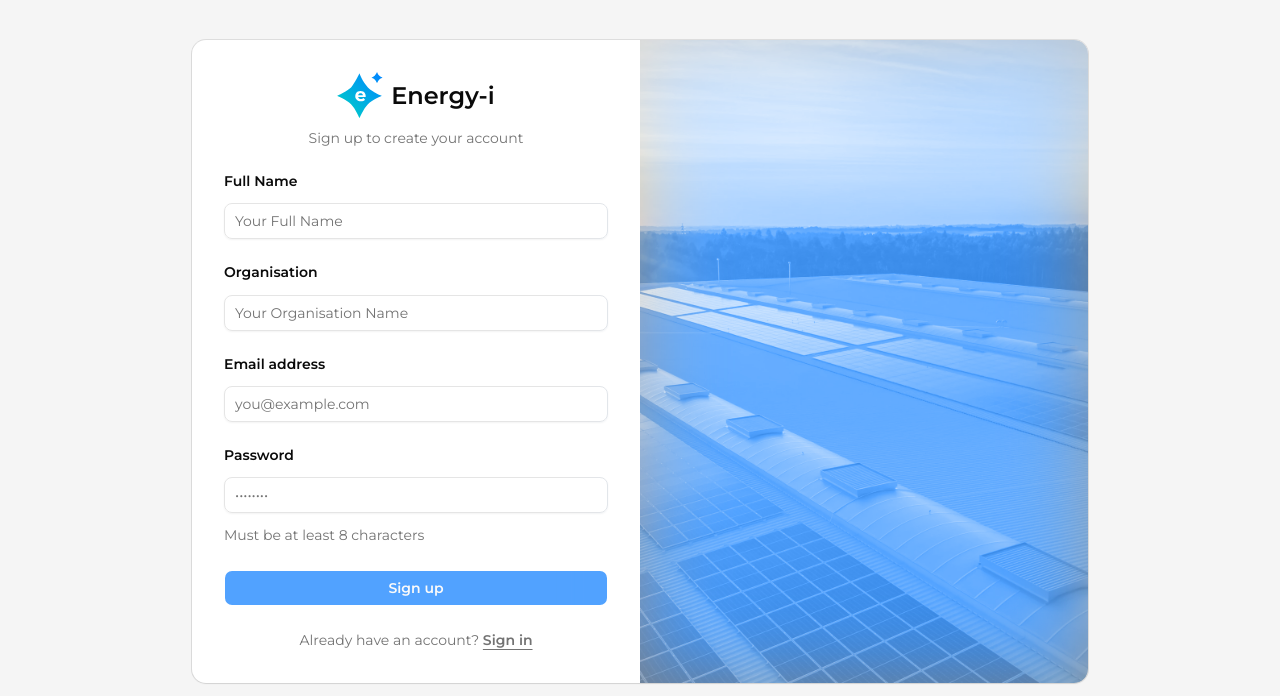
Test: Auth - Sign Up › shows an error for a duplicate email
Type "Admin User" into the field with id "name" at x=416, y=221, box top-left (224, 203), bottom-right (608, 239)
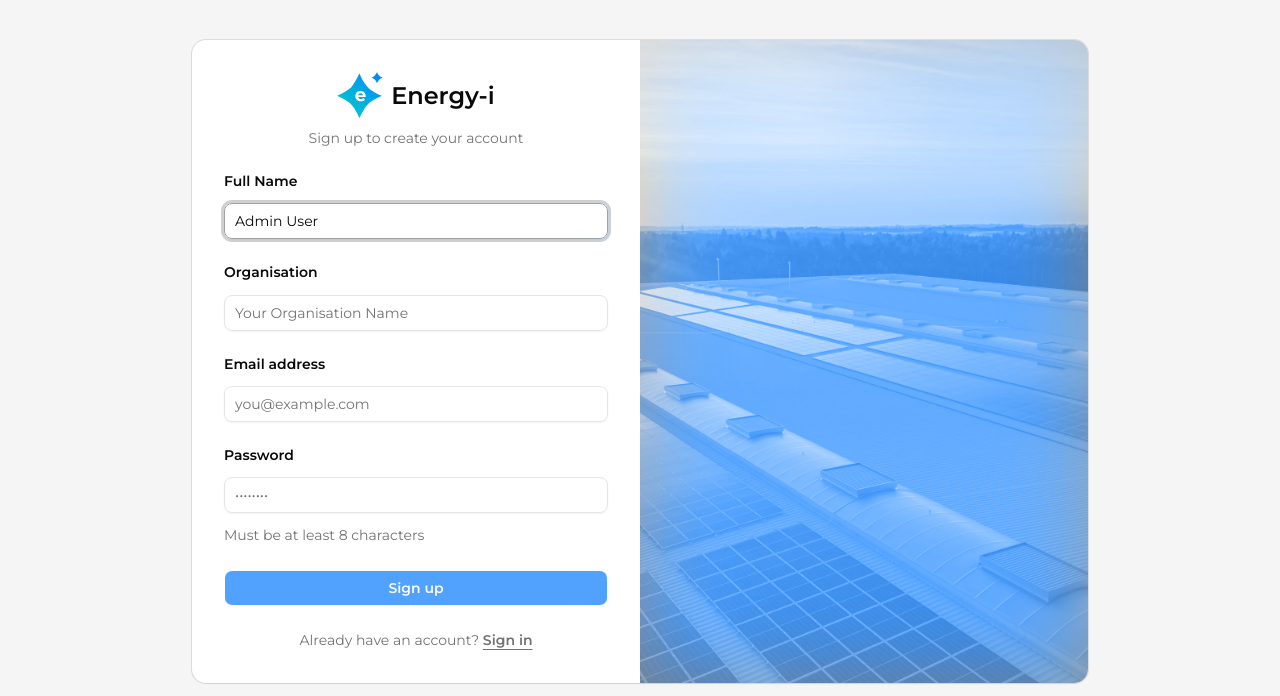
Type "Duplicate Org" into the field with id "organisation" at x=416, y=313, box top-left (224, 295), bottom-right (608, 331)
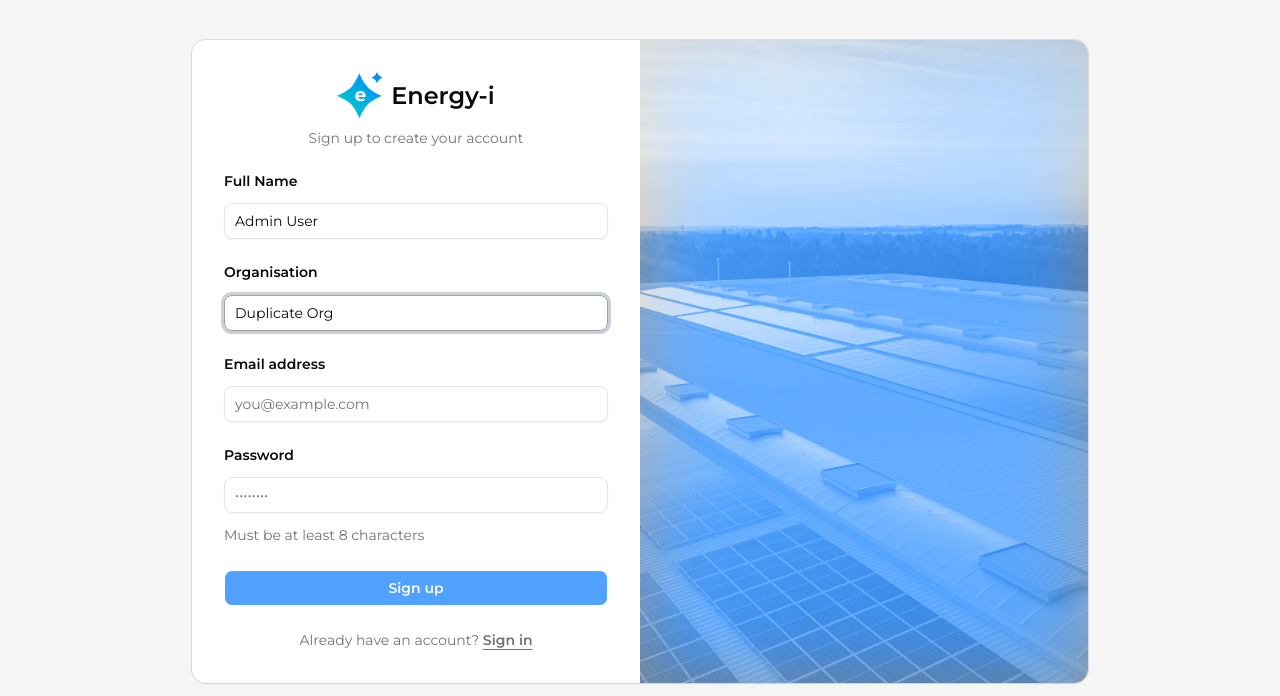
Type "admin@energycorp.com" into the field with id "email" at x=416, y=404, box top-left (224, 386), bottom-right (608, 422)
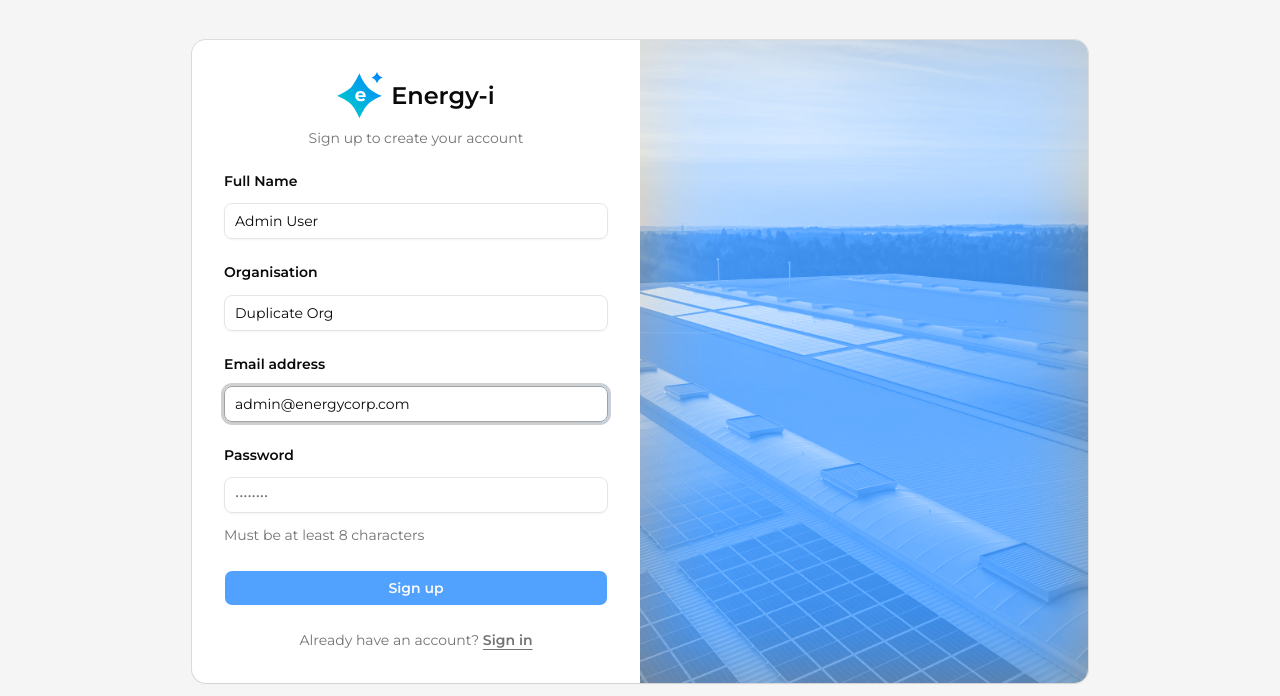
Type "securepassword" into the password field labelled "Password" at x=416, y=495, box top-left (224, 477), bottom-right (608, 513)
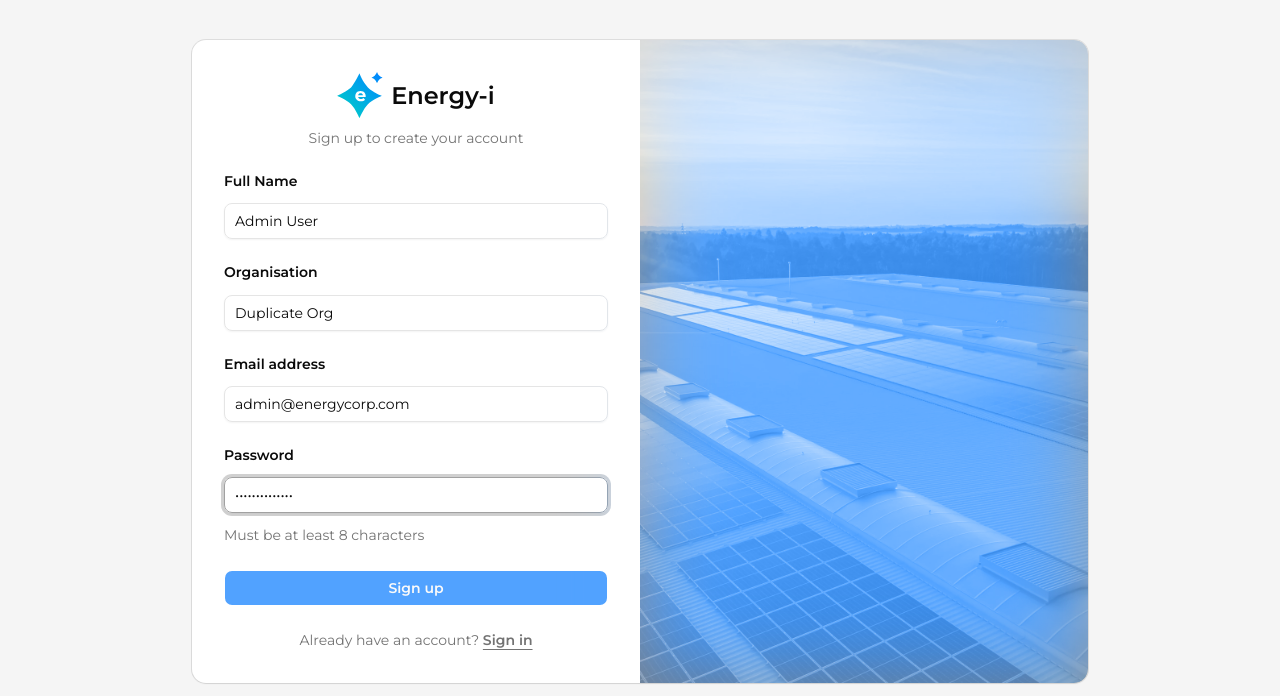
Click the submit button at x=416, y=588, box top-left (224, 570), bottom-right (608, 606)
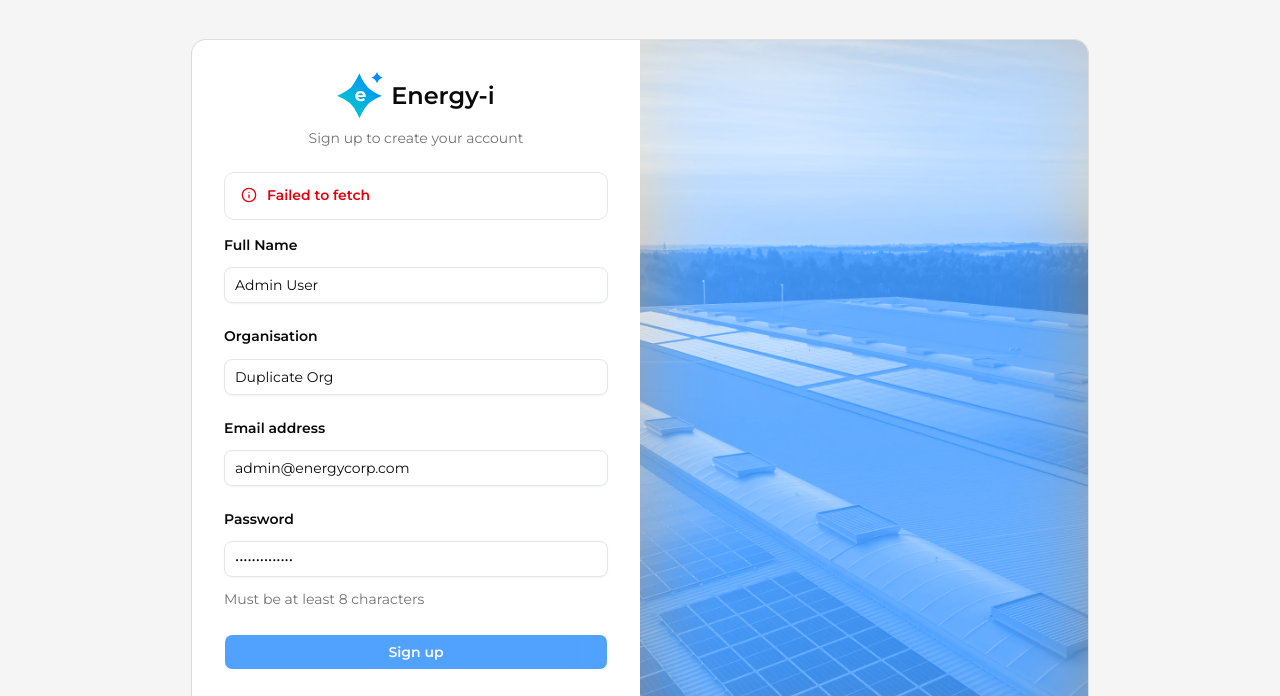
Now the message "Failed to fetch" is shown, box top-left (224, 172), bottom-right (608, 220)
